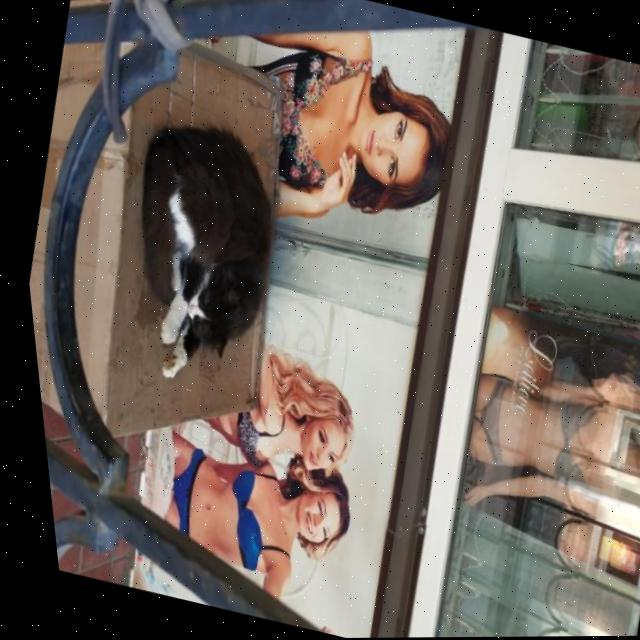Cats: (77, 117, 304, 413)
